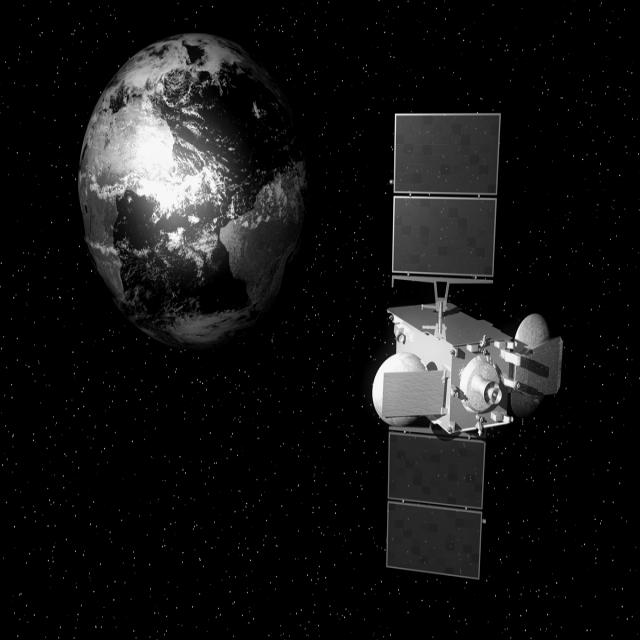satellite: (348, 36, 580, 640)
